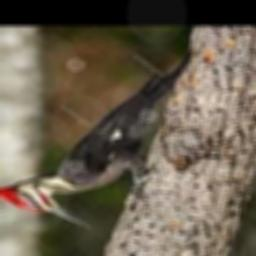Woodpecker: (0, 51, 192, 228)
